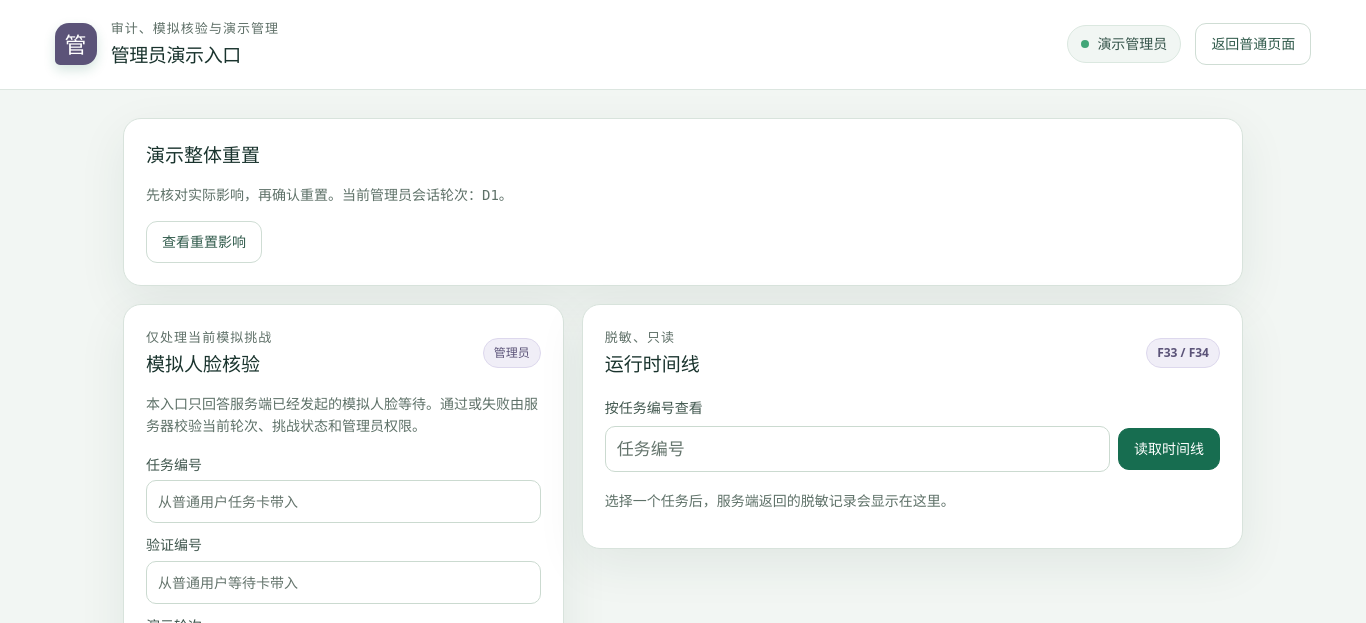
Scenario: administrator demo reset › requires the explicit checkbox even if a form is submitted directly
The width and height of the screenshot is (1366, 623).
Click the button "查看重置影响" at [204, 242], box [146,221,262,263]
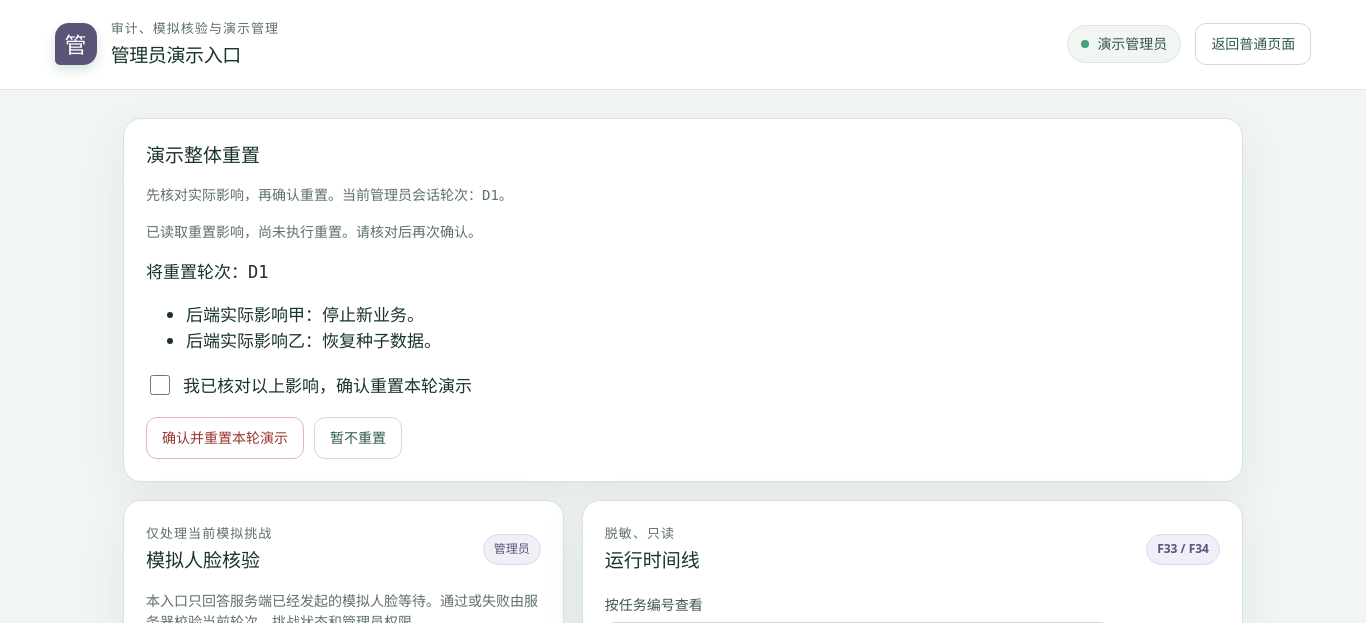
Check: the list item "后端实际影响甲：停止新业务。" is shown, box [186,303,424,326]
Submit the form "我已核对以上影响，确认重置本轮演示", box [146,260,472,459]
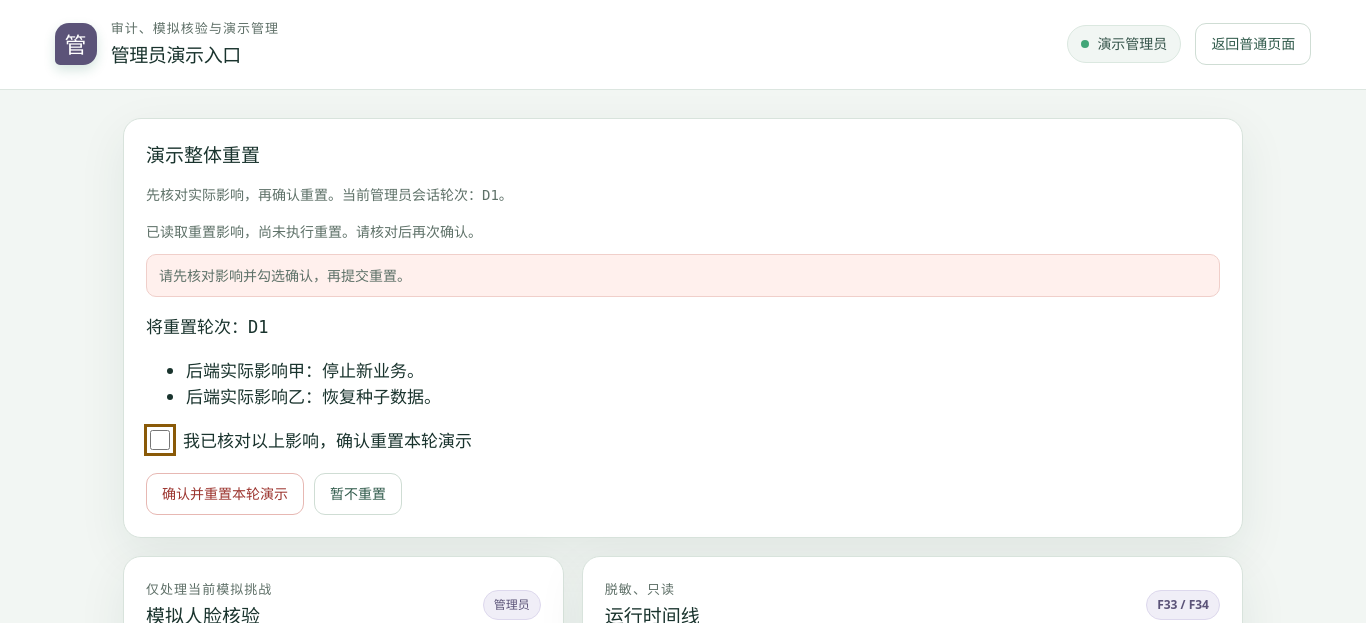
Check: the message "请先核对影响并勾选确认，再提交重置。" is shown, box [146,254,1220,297]
